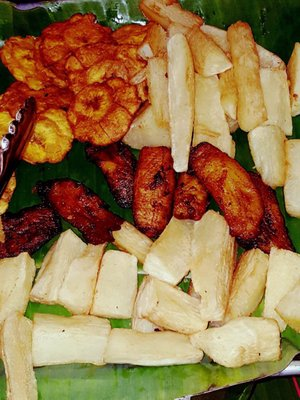curry: (178, 0, 300, 61)
